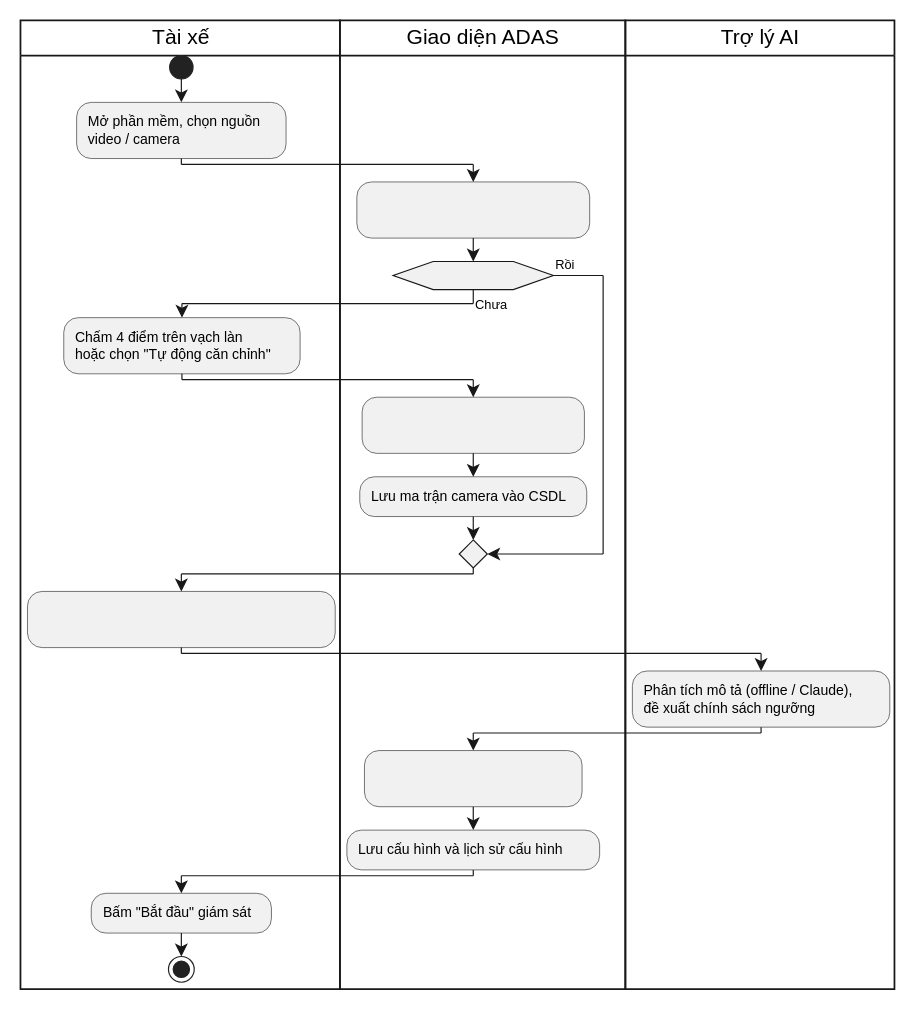
Some shapes in this 916 by 1011 pixel diagram are drawn without their labels. Here are the shapes that lost their labels. From the top down, the centre of each, then its label:
point 472,209: Đăng ký nguồn, nạp căn chỉnh mới nhất của nguồn
point 472,275: Nguồn đã căn chỉnh?
point 472,424: Tính H, K, R, xem trước ảnh nhìn từ trên xuống (BEV)
point 181,619: Bật "Tự đo từ video" hoặc chọn nấc tốc độ, mô tả điều kiện đường
point 473,778: Tính ngưỡng theo dải tốc độ × hệ số điều kiện đường
